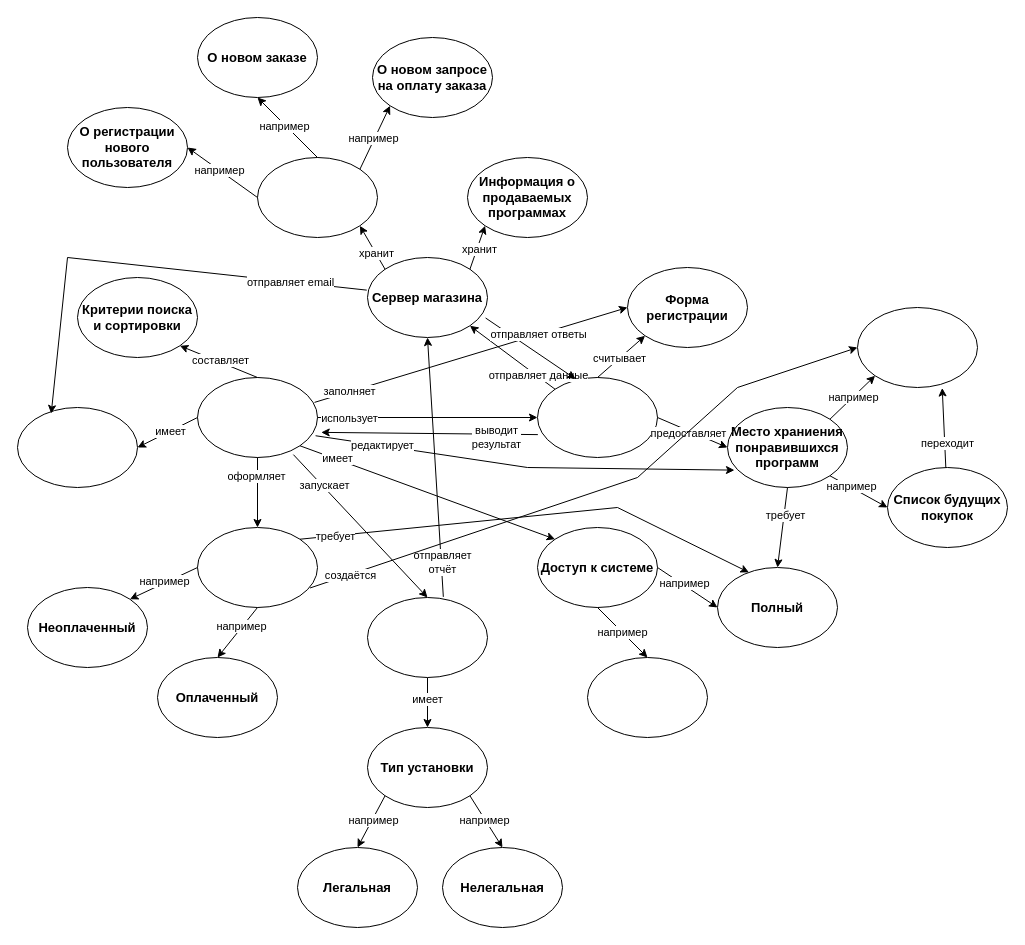
Some shapes in this 1025 by 945 pixel diagram are drawn without their labels. Here are the shapes that lost their labels. From the top down, the box of each, then its label:
(256, 156, 378, 238): Записи
(856, 306, 978, 388): Корзина
(196, 376, 318, 458): Пользователь
(536, 376, 658, 458): Сайт магазина
(16, 406, 138, 488): Электронный ящик
(196, 526, 318, 608): Заказ
(366, 596, 488, 678): Установленная программа
(586, 656, 708, 738): Ограниченный
